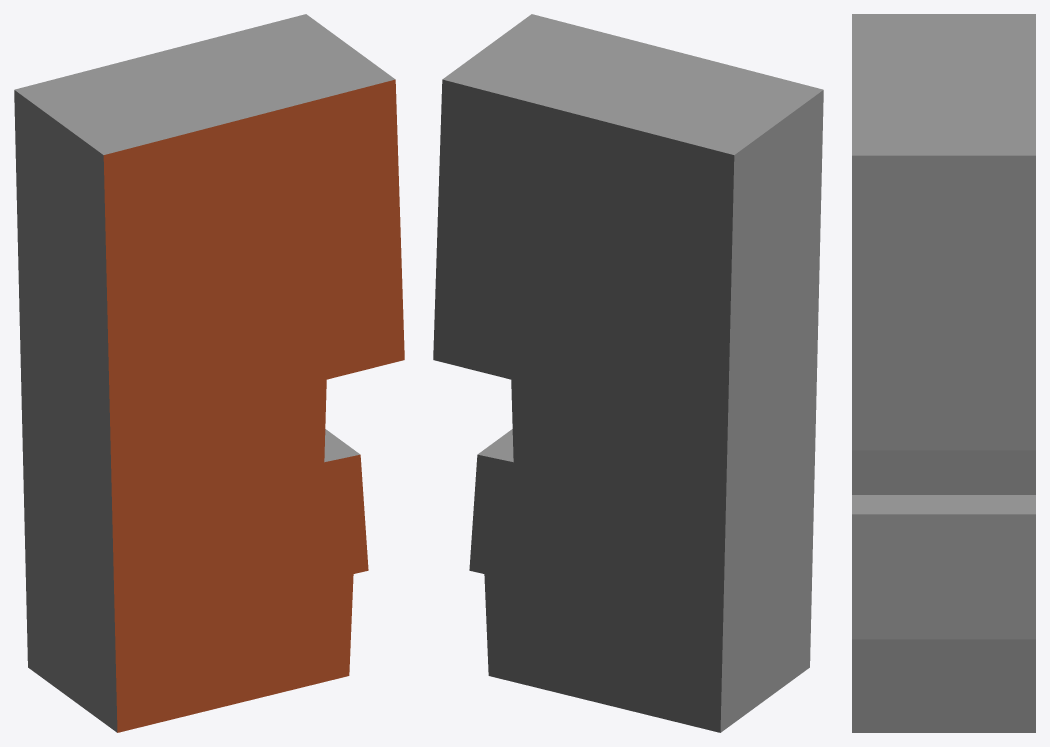
Rendered from construction_1596_assumed_A_Casa_h6m.obj.
3 renders of one model, left to right at view 1: azimuth 30°, elevation 25°; view 2: azimuth 150°, elevation 25°; view 3: azimuth 270°, elevation 25°, orthographic. The views are drawn at different scales.
Parts seen in each view (by area): view 1: construction_1596_assumed_A_Casa; view 2: construction_1596_assumed_A_Casa; view 3: construction_1596_assumed_A_Casa.
Boxes of the visible parts, x1,y1,x2,y2 form: construction_1596_assumed_A_Casa: (14, 14, 404, 732); construction_1596_assumed_A_Casa: (433, 14, 823, 732); construction_1596_assumed_A_Casa: (852, 14, 1035, 732).
Bounding box in the file's own units: 11.66 × 21.66 × 6.
